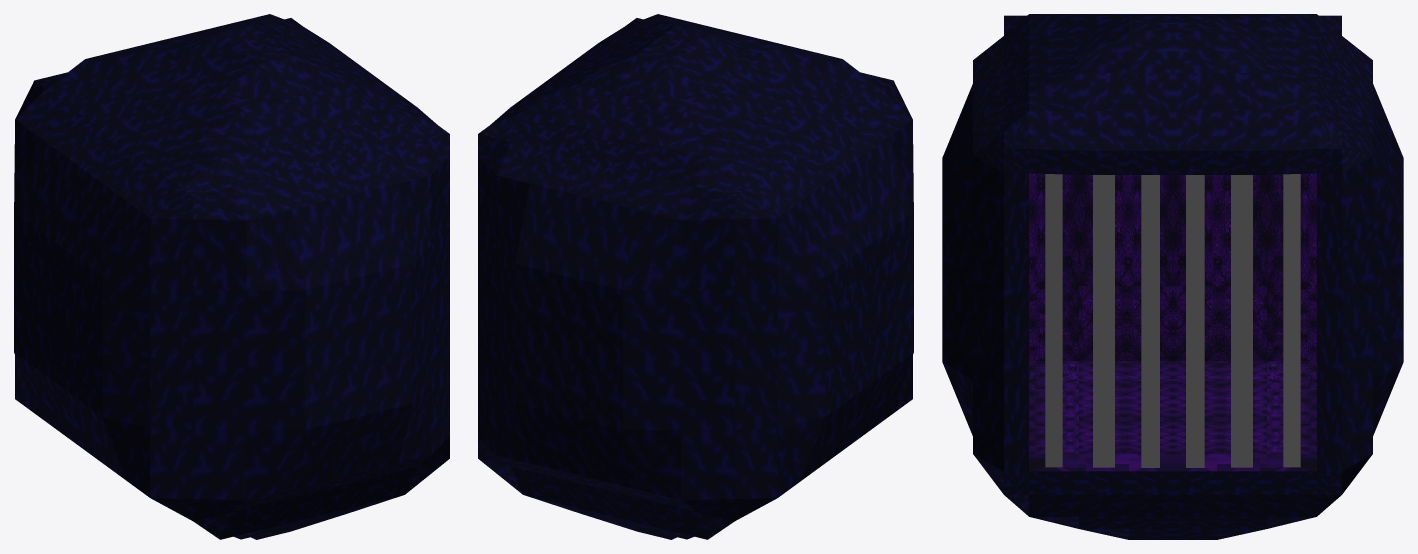
The model's file is Gaiola.glb.
3 views of the same model, side by side, from view 1: azimuth 30°, elevation 25°; view 2: azimuth 150°, elevation 25°; view 3: azimuth 270°, elevation 25° (orthographic). The views are drawn at different scales.
Parts seen in each view (by area): view 1: Cube; view 2: Cube; view 3: Cube.
Part boxes in pixels (left/top/right/bottom): Cube: left=14, top=14, right=449, bottom=539; Cube: left=478, top=14, right=913, bottom=539; Cube: left=942, top=14, right=1403, bottom=539.
Bounding box in the file's own units: 8.11 × 11.69 × 9.64.
Materials: 3 (2 with a texture image).
